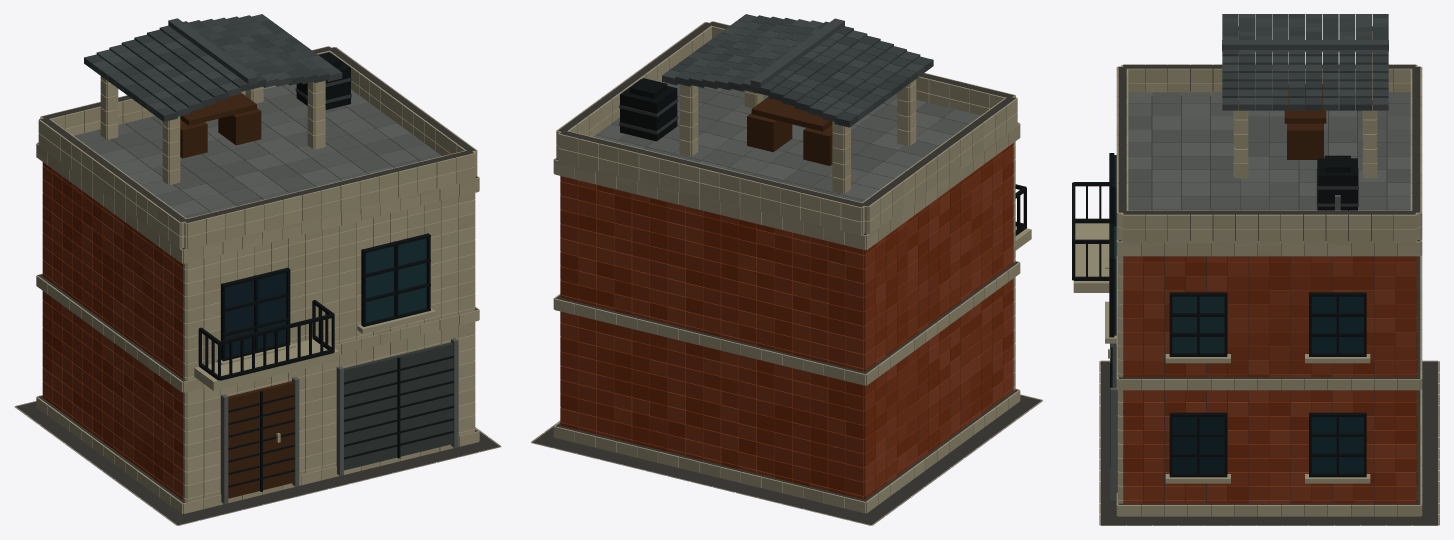
The model's file is SM_Mapa_050.fbx.
3 renders of one model, left to right at view 1: azimuth 30°, elevation 25°; view 2: azimuth 150°, elevation 25°; view 3: azimuth 270°, elevation 25°, orthographic. The views are drawn at different scales.
Visible parts, largest first — view 1: SM_Mapa_050; view 2: SM_Mapa_050; view 3: SM_Mapa_050.
Boxes of the visible parts, box(x1,y1,x2,y2) form: SM_Mapa_050: box(14, 14, 501, 525); SM_Mapa_050: box(531, 14, 1042, 525); SM_Mapa_050: box(1072, 14, 1439, 525).
Bounding box in the file's own units: 8 × 7.53 × 8.74.
